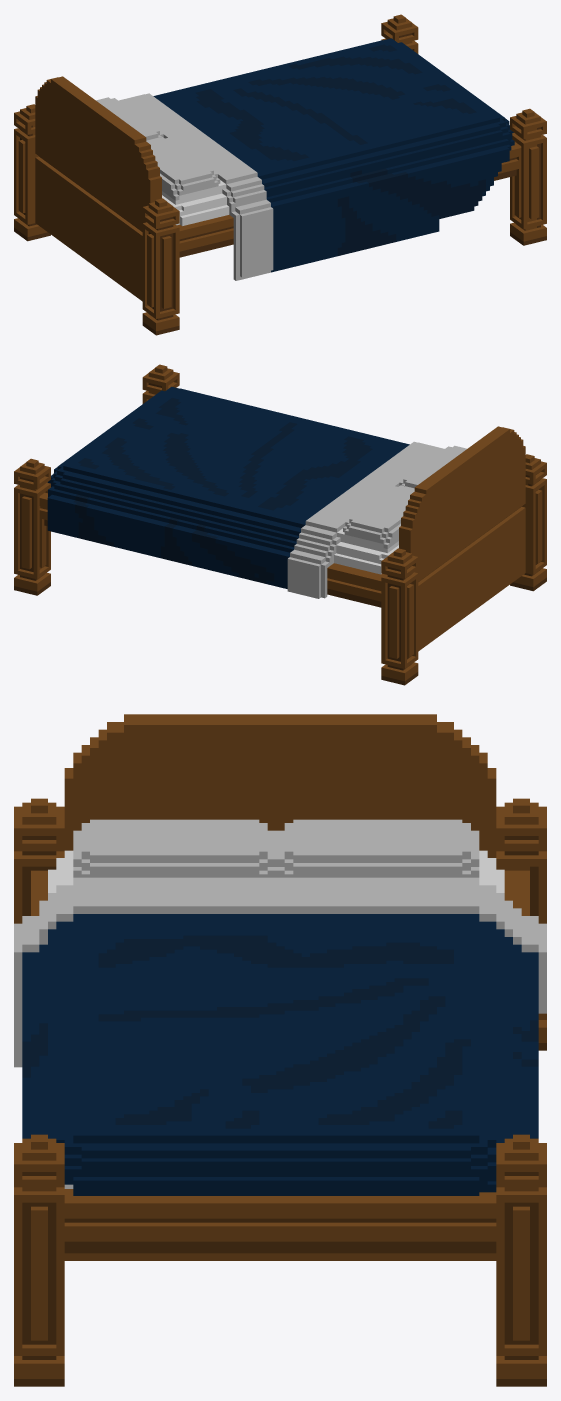
The model's file is cama_casal.obj.
3 renders of one model, top to bottom at view 1: azimuth 30°, elevation 25°; view 2: azimuth 150°, elevation 25°; view 3: azimuth 270°, elevation 25°, orthographic. The views are drawn at different scales.
Visible parts, largest first — view 1: cama_casal; view 2: cama_casal; view 3: cama_casal.
Boxes of the visible parts, x1,y1,x2,y2 form: cama_casal: [14, 14, 546, 335]; cama_casal: [14, 364, 546, 685]; cama_casal: [14, 714, 546, 1386].
Bounding box in the file's own units: 100 × 42 × 63.
Materials: 1 (1 with a texture image).
